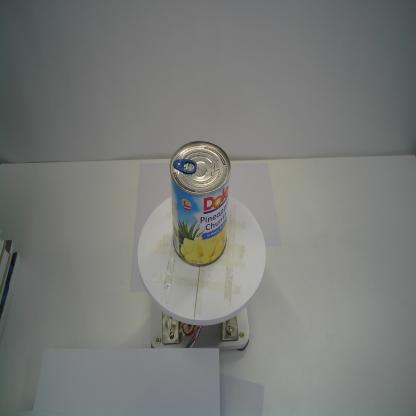Canned Food: (169, 139, 232, 268)
